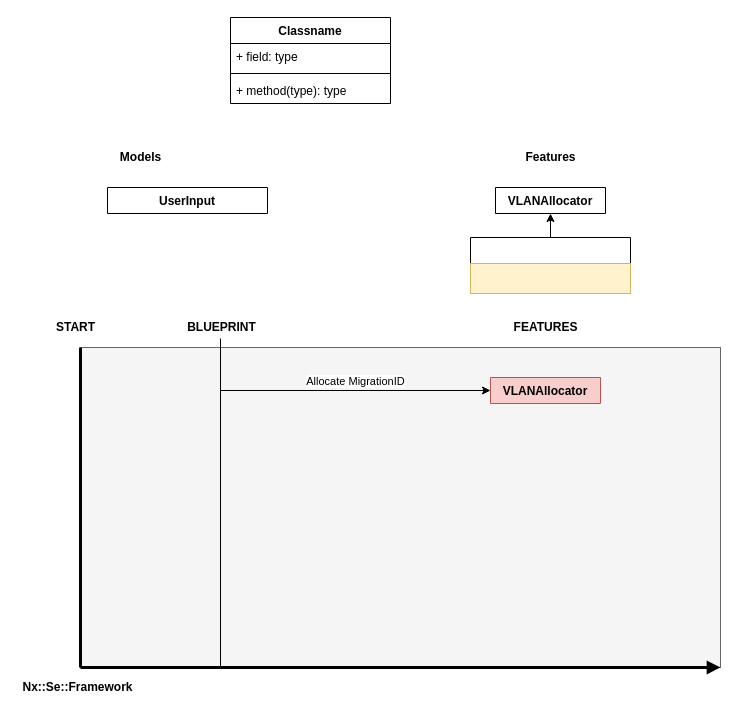
Some shapes in this 747 by 715 pixel diagram are drawn without their labels. Here are the shapes that lost their labels. From the top down, the centre of each, then its label:
At (x=550, y=250): "VLANAllocator::SVLAN".
At (x=550, y=278): "New VLAN range for NC/IC/B2SME. 2600 - 3000".
